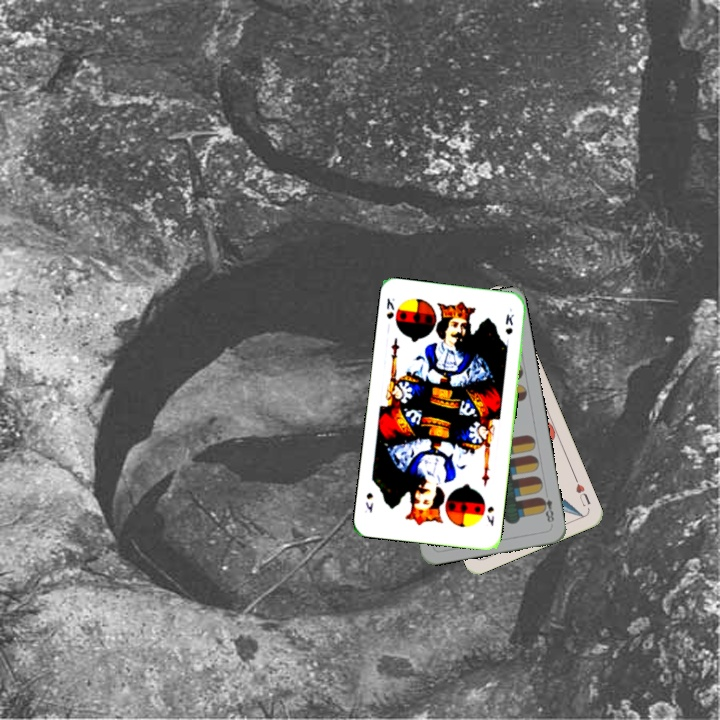E8: (536, 493, 557, 525)
HU: (570, 473, 593, 509)
SK: (383, 294, 397, 321), (483, 502, 497, 528)
